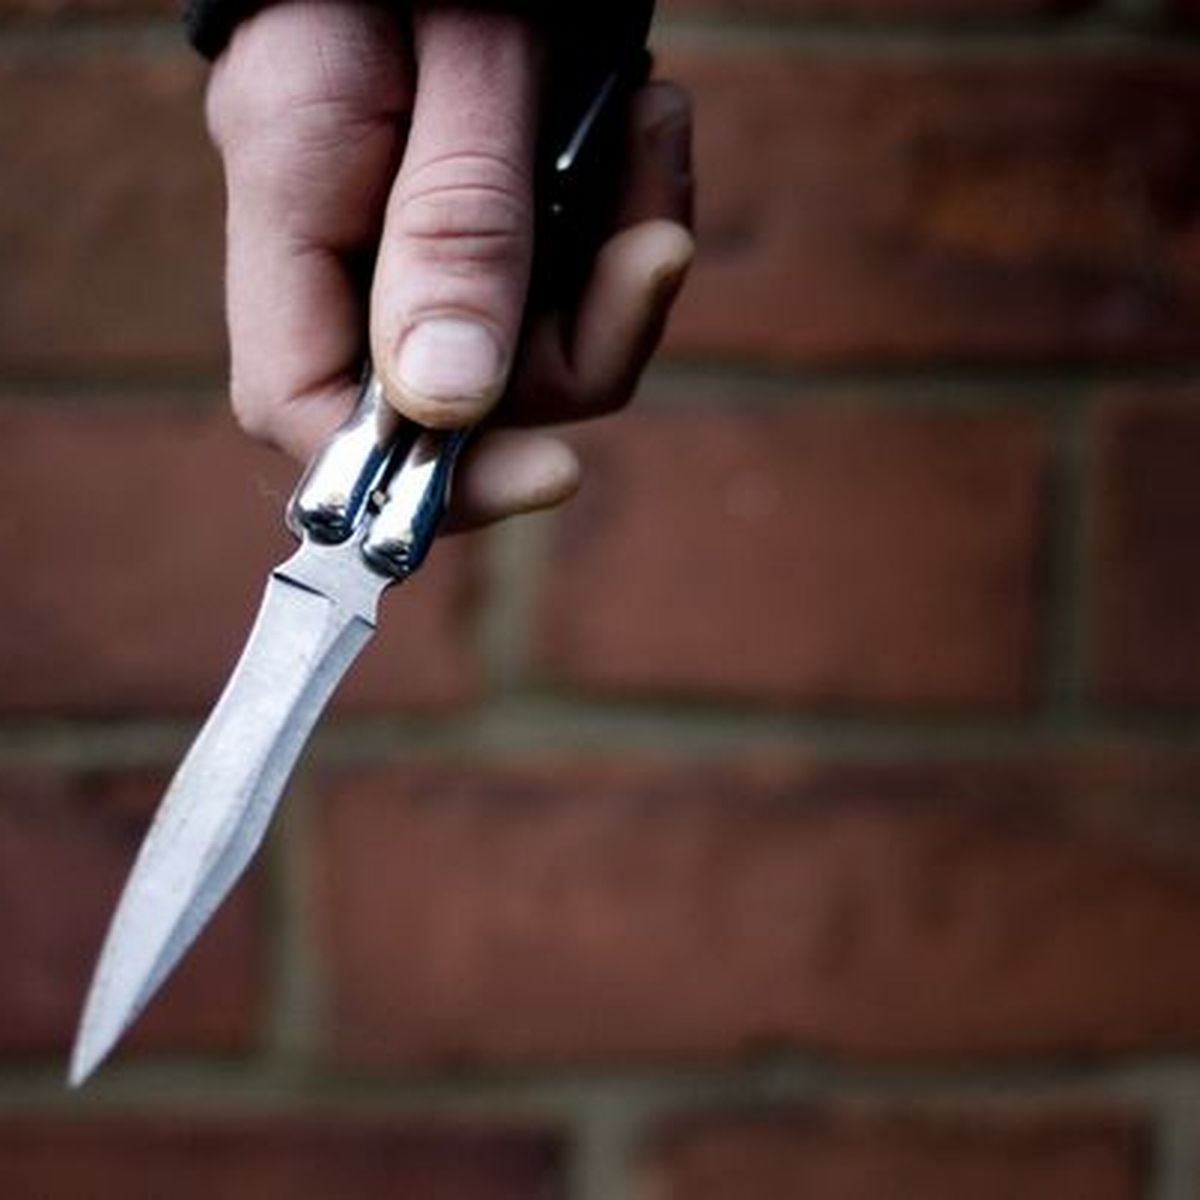knife: (63, 45, 662, 1097)
